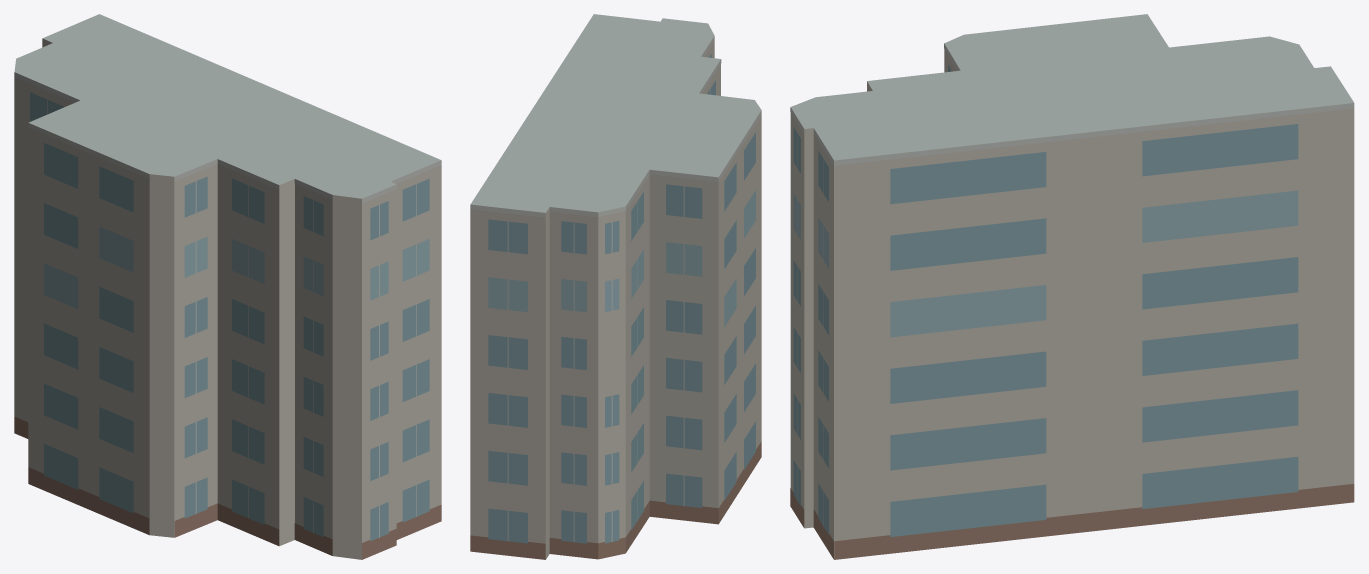
File: survey-upis-32702009.glb
3 views of the same model, side by side, from view 1: azimuth 30°, elevation 25°; view 2: azimuth 150°, elevation 25°; view 3: azimuth 270°, elevation 25° (orthographic). The views are drawn at different scales.
Visible parts, largest first — view 1: survey-upis-32702009.tmp; view 2: survey-upis-32702009.tmp; view 3: survey-upis-32702009.tmp.
Boxes of the visible parts, x1,y1,x2,y2 form: survey-upis-32702009.tmp: (14,14,441,559); survey-upis-32702009.tmp: (470,14,761,559); survey-upis-32702009.tmp: (790,14,1354,559).
Size of the model in its own units: 14.41 by 18.3 by 23.43.
